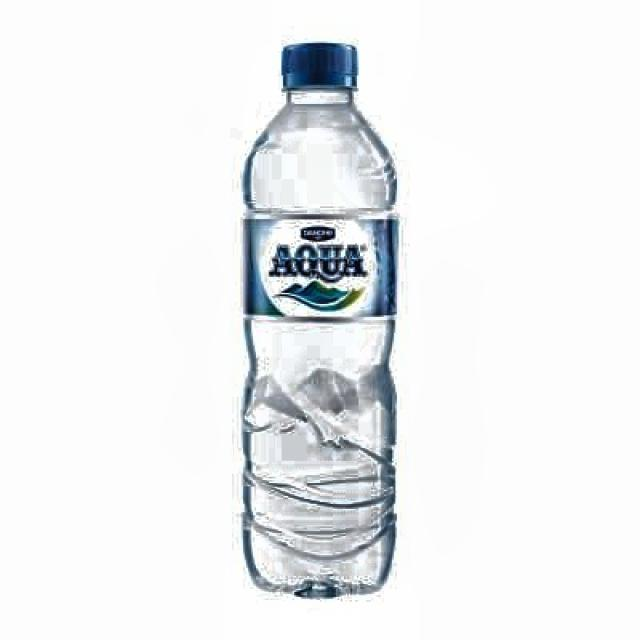Bottles: (234, 36, 411, 604)
